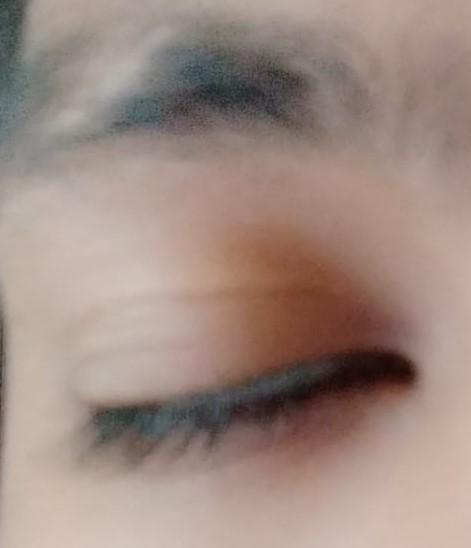close: (66, 267, 422, 482)
